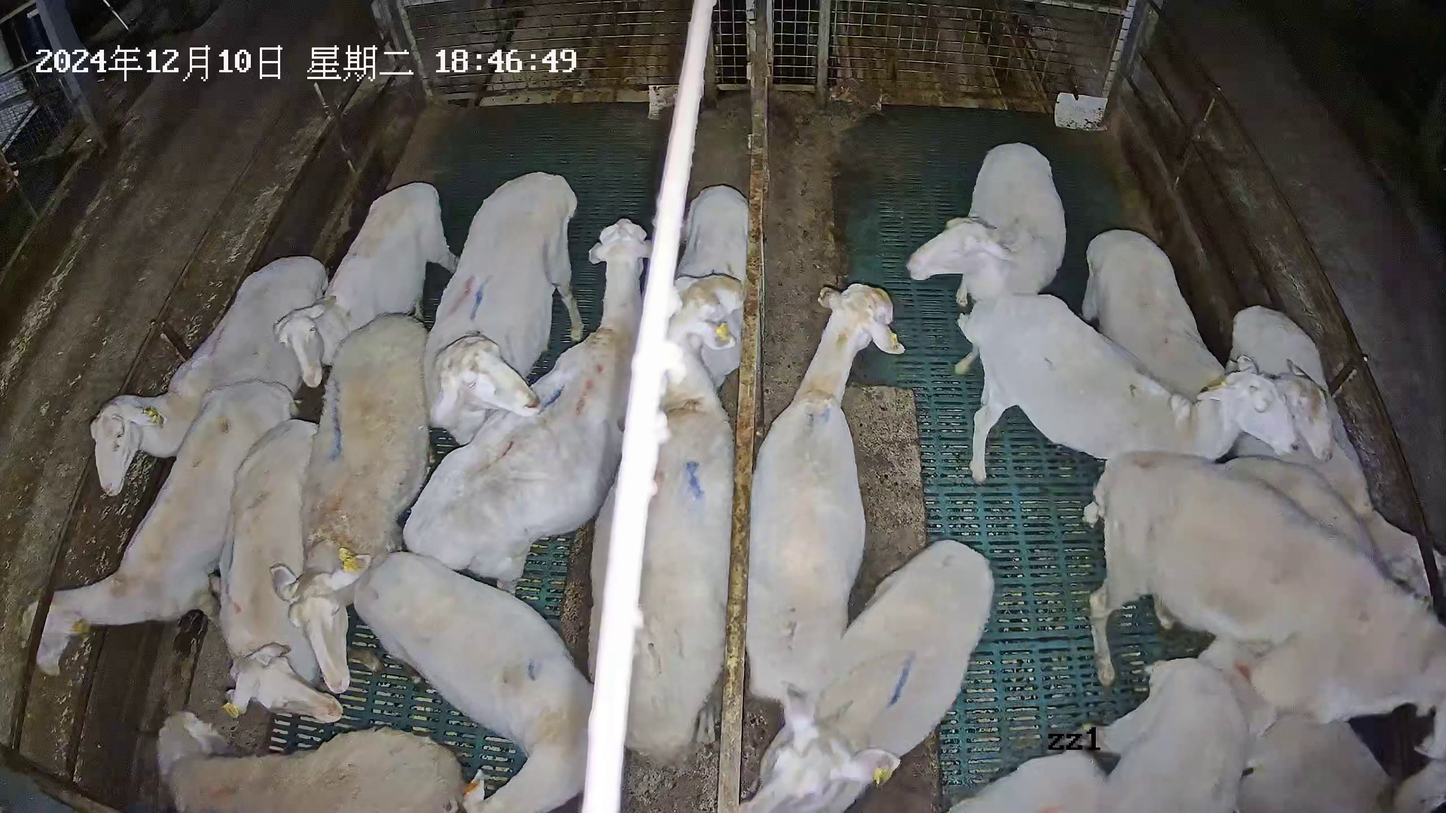Smounting: (1087, 447, 1446, 813)
mounted: (1197, 631, 1444, 813)
